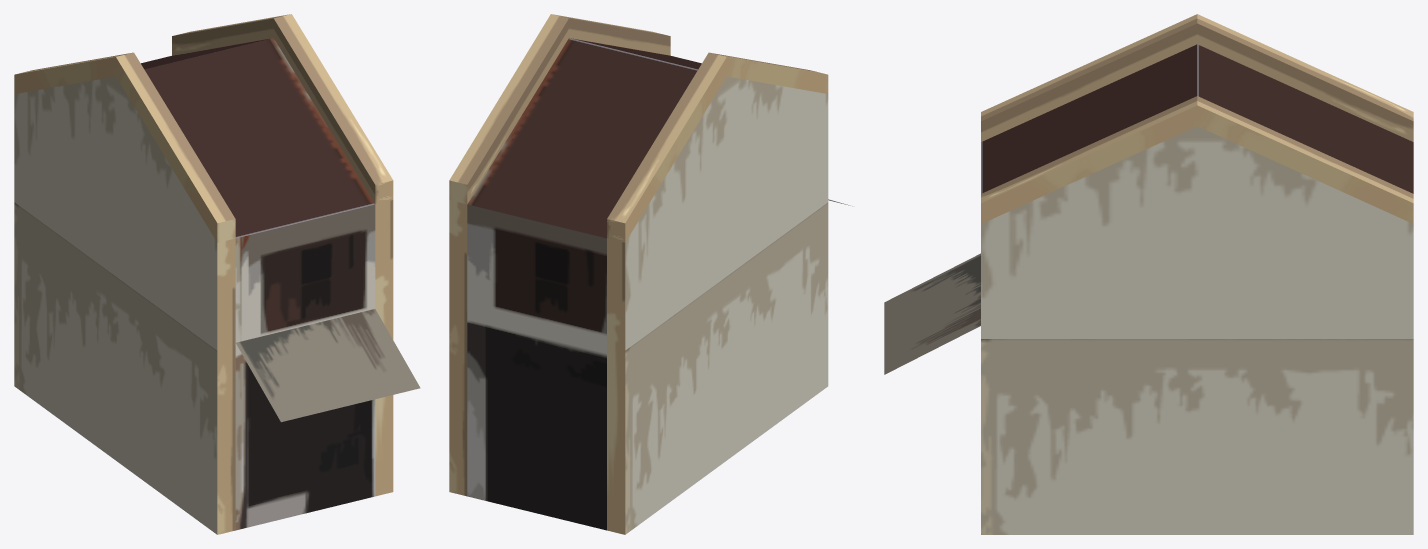
The model's file is SM_Building_Thin_01.fbx.
3 renders of one model, left to right at view 1: azimuth 30°, elevation 25°; view 2: azimuth 150°, elevation 25°; view 3: azimuth 270°, elevation 25°, orthographic. The views are drawn at different scales.
Visible parts, largest first — view 1: SM_Building_Thin_01_LOD0; view 2: SM_Building_Thin_01_LOD0; view 3: SM_Building_Thin_01_LOD0.
Part boxes in pixels (x1=…): SM_Building_Thin_01_LOD0: x1=14, y1=14, x2=420, y2=534; SM_Building_Thin_01_LOD0: x1=449, y1=14, x2=852, y2=534; SM_Building_Thin_01_LOD0: x1=884, y1=14, x2=1413, y2=534.
Size of what is drawn, in the model's own units: 4.2 by 9.21 by 10.28.
